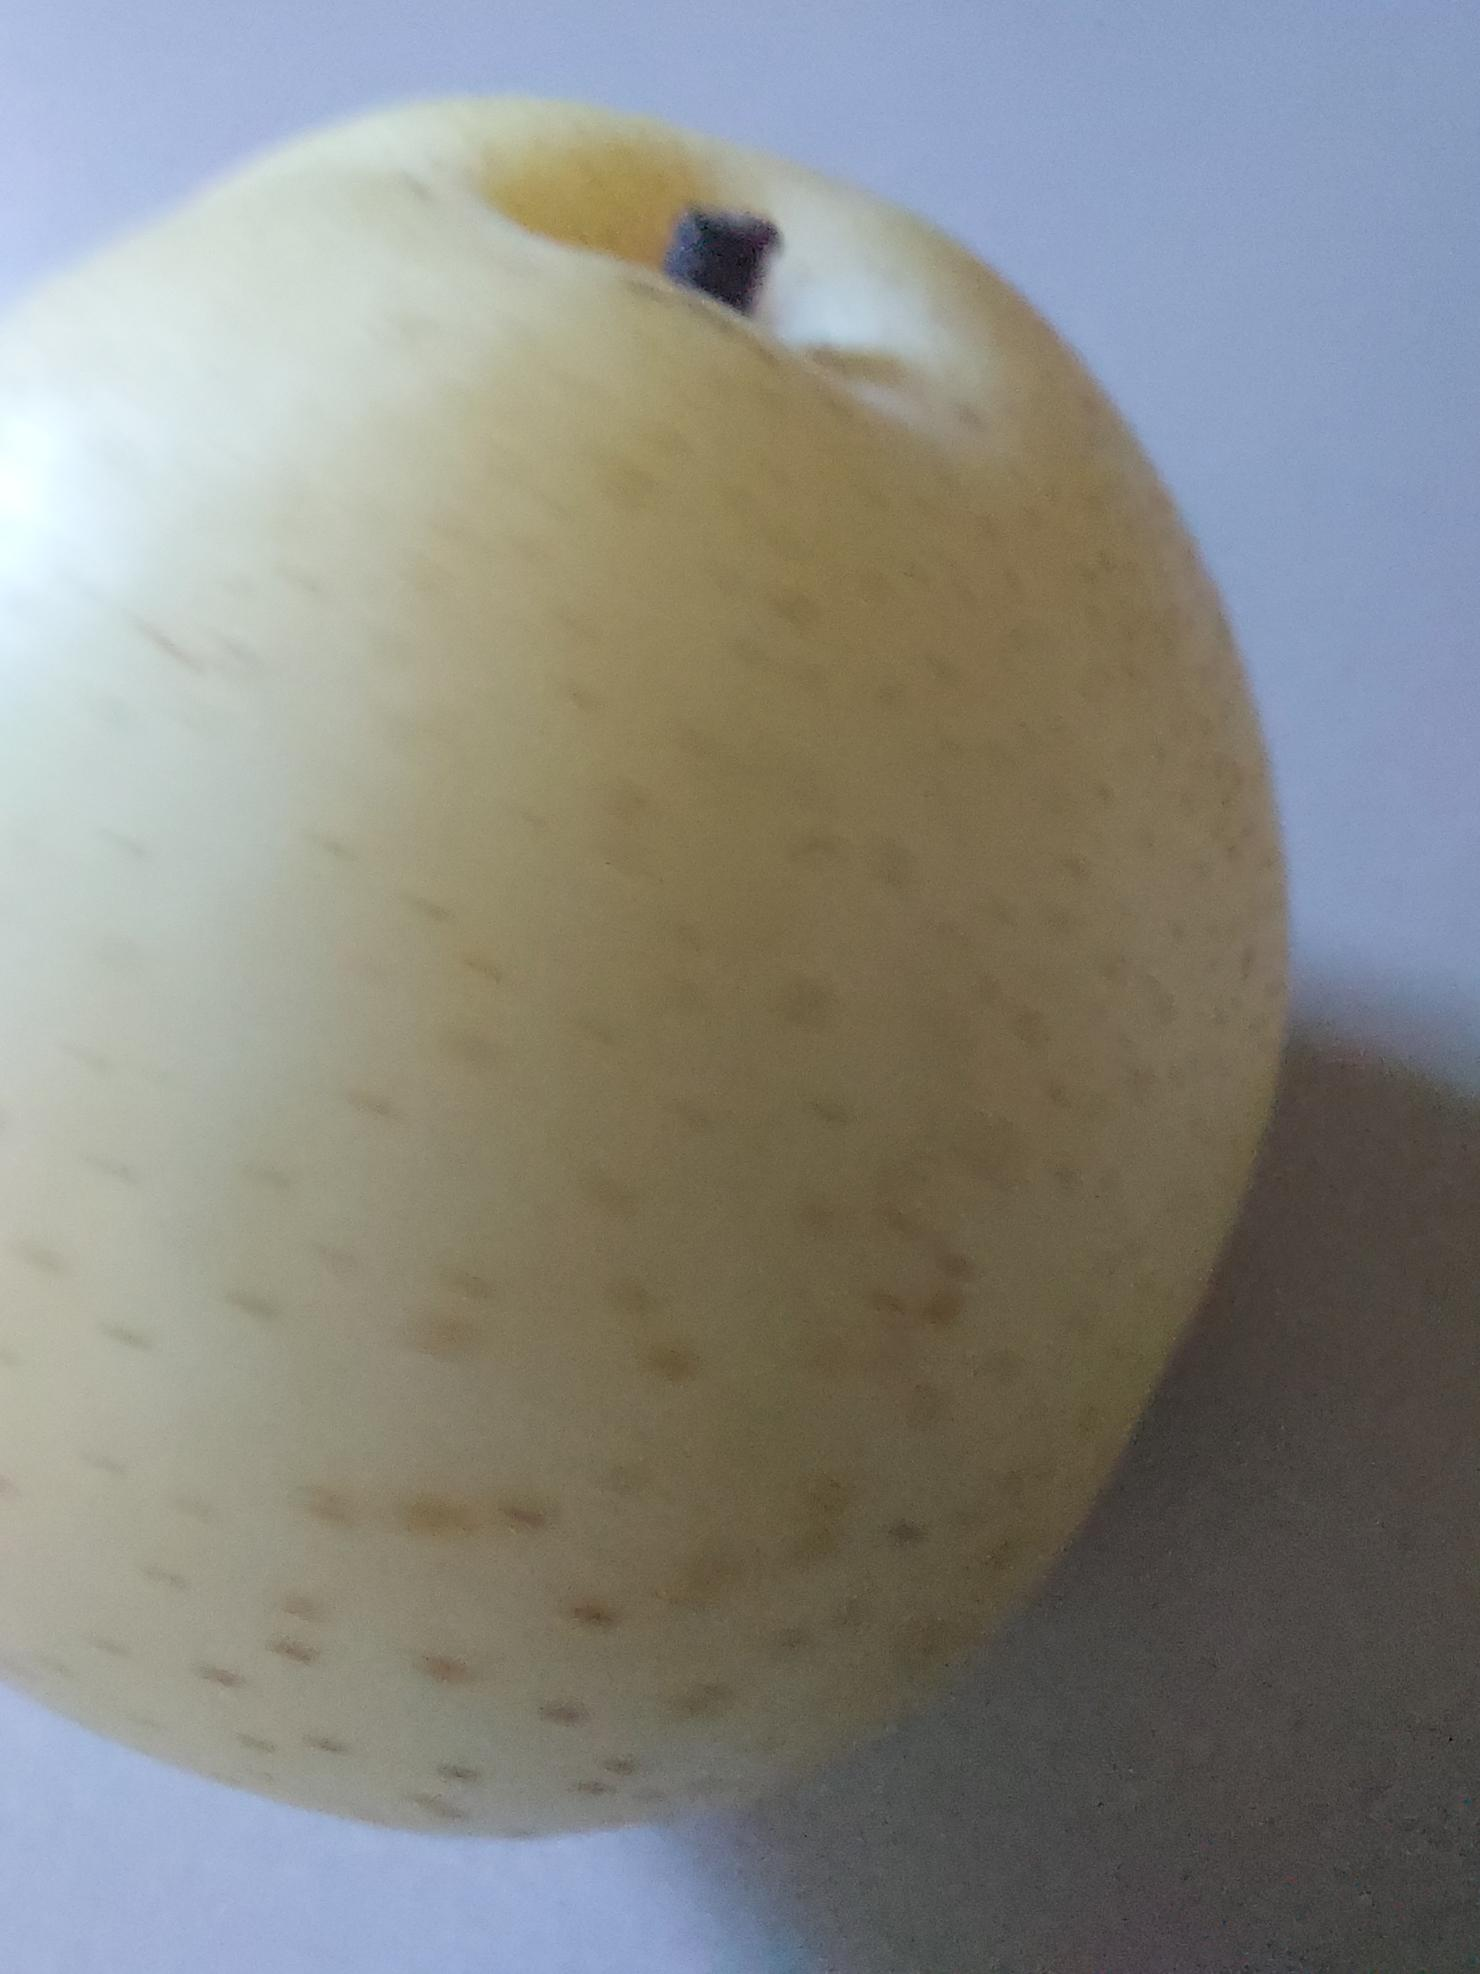Good Pear: (0, 79, 1292, 1819)
